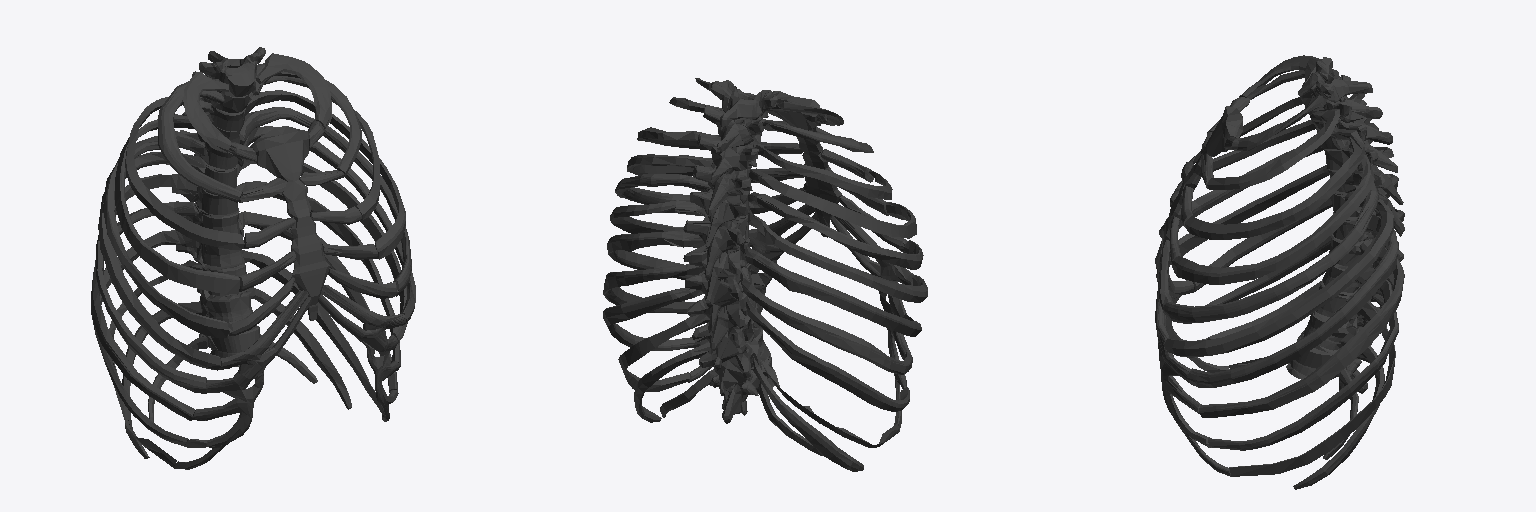
The model's file is Torso.obj.
3 views of the same model, side by side, from view 1: azimuth 30°, elevation 25°; view 2: azimuth 150°, elevation 25°; view 3: azimuth 270°, elevation 25° (orthographic).
Bounding box in the file's own units: 0.2934 × 0.3683 × 0.2258.